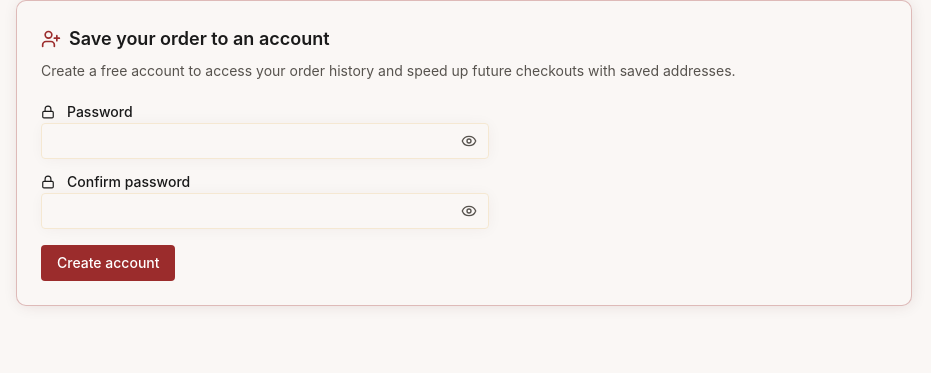
Test: GuestAccountBootstrapBanner › missing password › shows 'Password is required' when password is empty
Click the button with test id "guest-bootstrap-submit" at (108, 263), box 41,245 -> 176,281
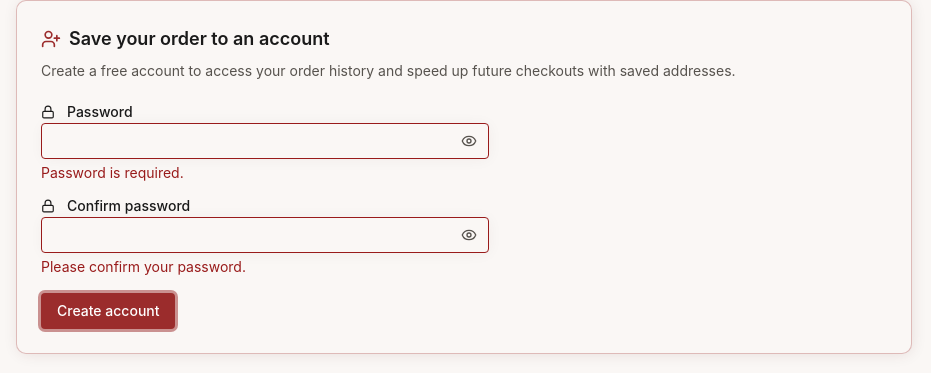
Check: the text "Password is required." is shown, box 41,164 -> 184,181
